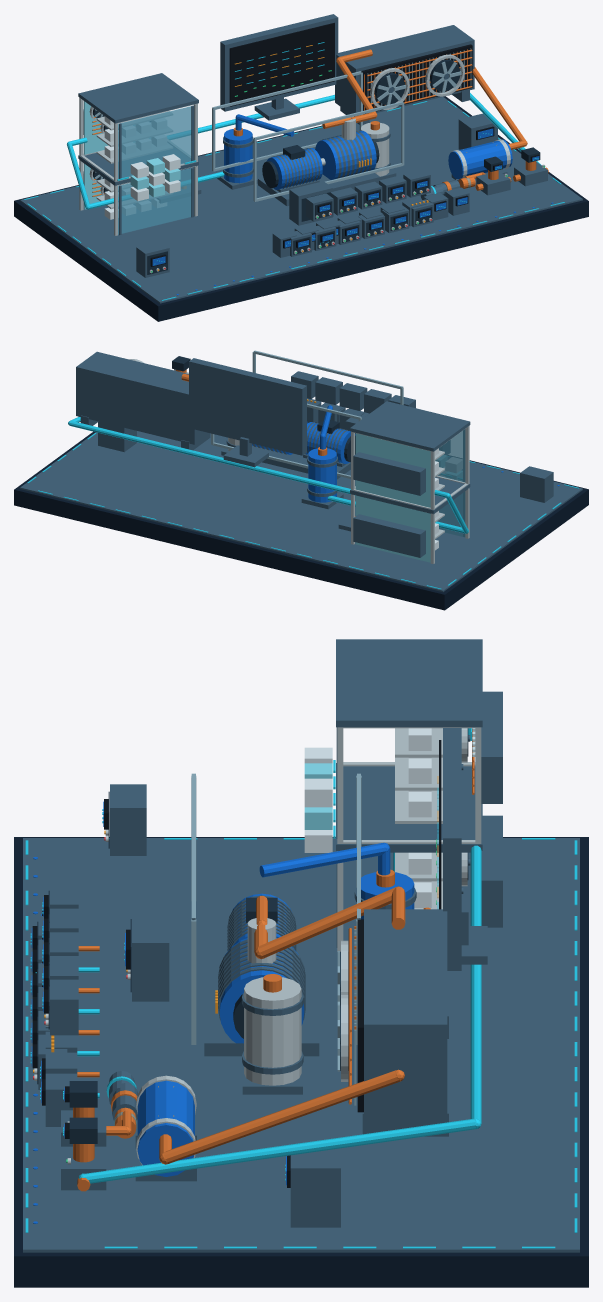
The model's file is Level69_Complete_ArtKit_Showcase.fbx.
3 views of the same model, one above another, from view 1: azimuth 30°, elevation 25°; view 2: azimuth 150°, elevation 25°; view 3: azimuth 270°, elevation 25° (orthographic). The views are drawn at different scales.
Parts seen in each view (by area): view 1: Level69_Complete_ArtKit_Showcase; view 2: Level69_Complete_ArtKit_Showcase; view 3: Level69_Complete_ArtKit_Showcase.
Boxes of the visible parts, <box> form: Level69_Complete_ArtKit_Showcase: <box>14,14,588,321</box>; Level69_Complete_ArtKit_Showcase: <box>14,350,588,610</box>; Level69_Complete_ArtKit_Showcase: <box>14,639,588,1287</box>.
Bounding box in the file's own units: 1380 × 476 × 800.
